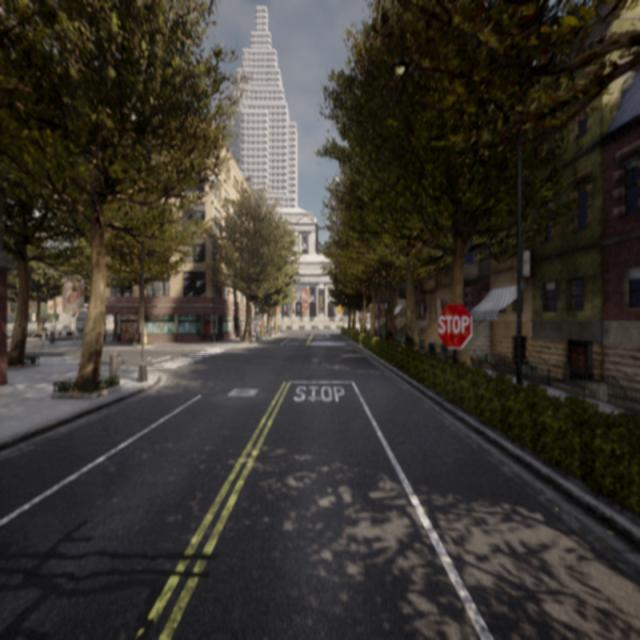stop sign: (434, 299, 474, 352)
